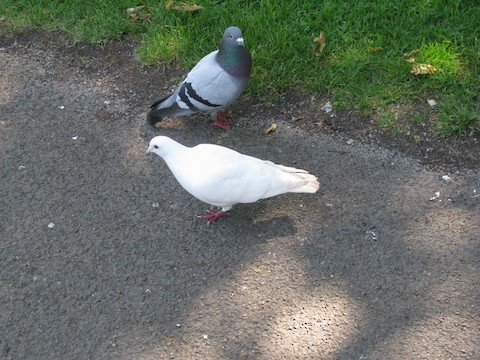pigeon: (143, 134, 327, 226), (144, 21, 259, 131)
